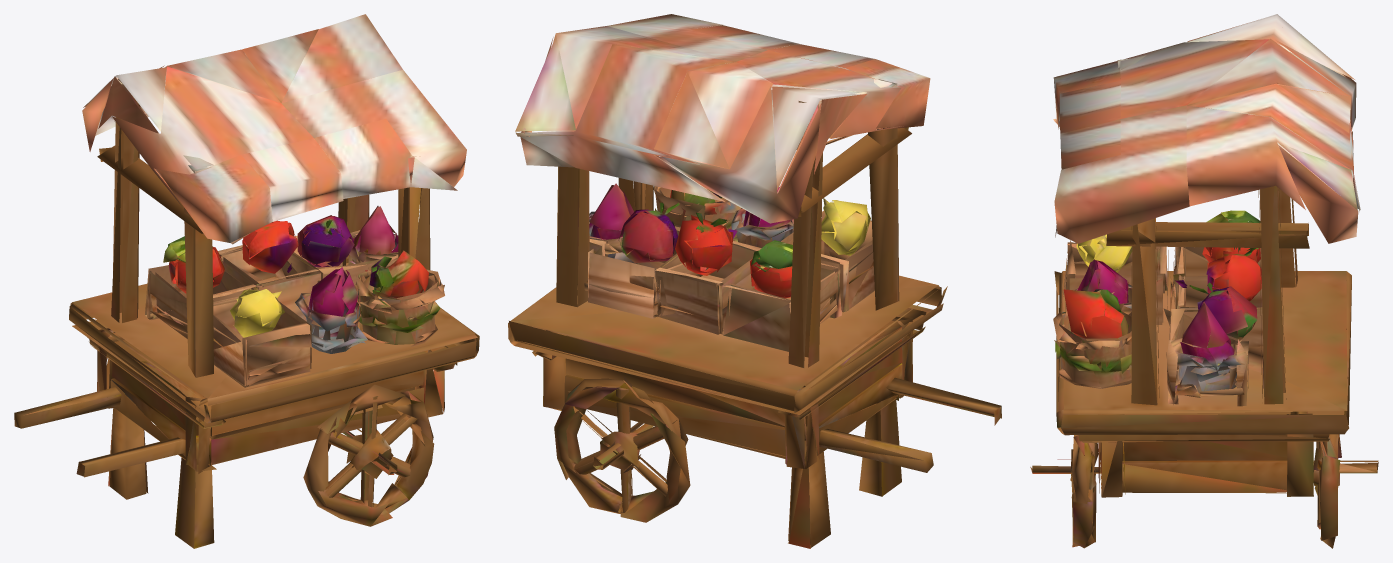
Rendered from cart_market_3.glb.
3 renders of one model, left to right at view 1: azimuth 30°, elevation 25°; view 2: azimuth 150°, elevation 25°; view 3: azimuth 270°, elevation 25°, orthographic. The views are drawn at different scales.
Parts seen in each view (by area): view 1: Mesh_0; view 2: Mesh_0; view 3: Mesh_0.
Part boxes in pixels (left/top/right/bottom): Mesh_0: left=14, top=14, right=479, bottom=548; Mesh_0: left=508, top=14, right=1001, bottom=548; Mesh_0: left=1030, top=14, right=1378, bottom=548.
Bounding box in the file's own units: 0.9133 × 1.01 × 0.7156.
1 material, 1 textured.
